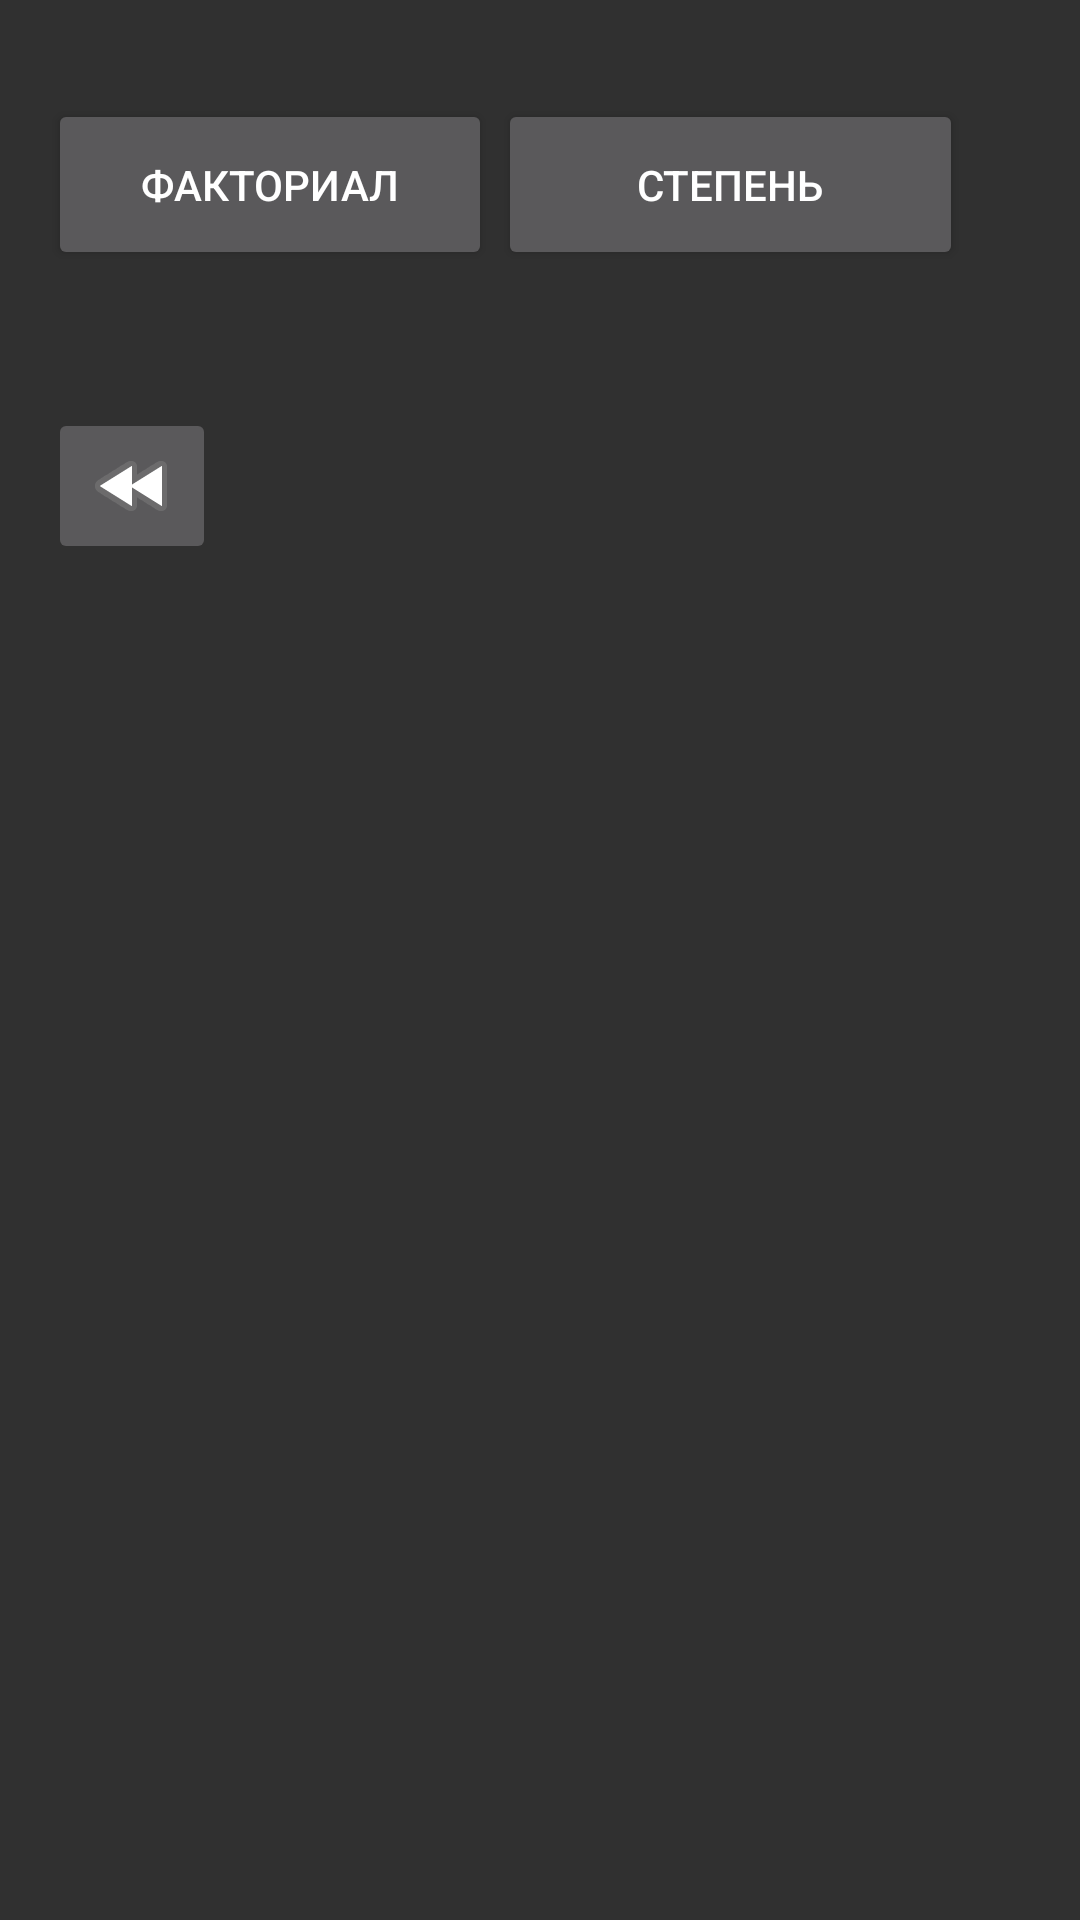

Screen size 1080w x 1920h. Icon name, then its center in pixels as (x,y):
rew: (132,486)
